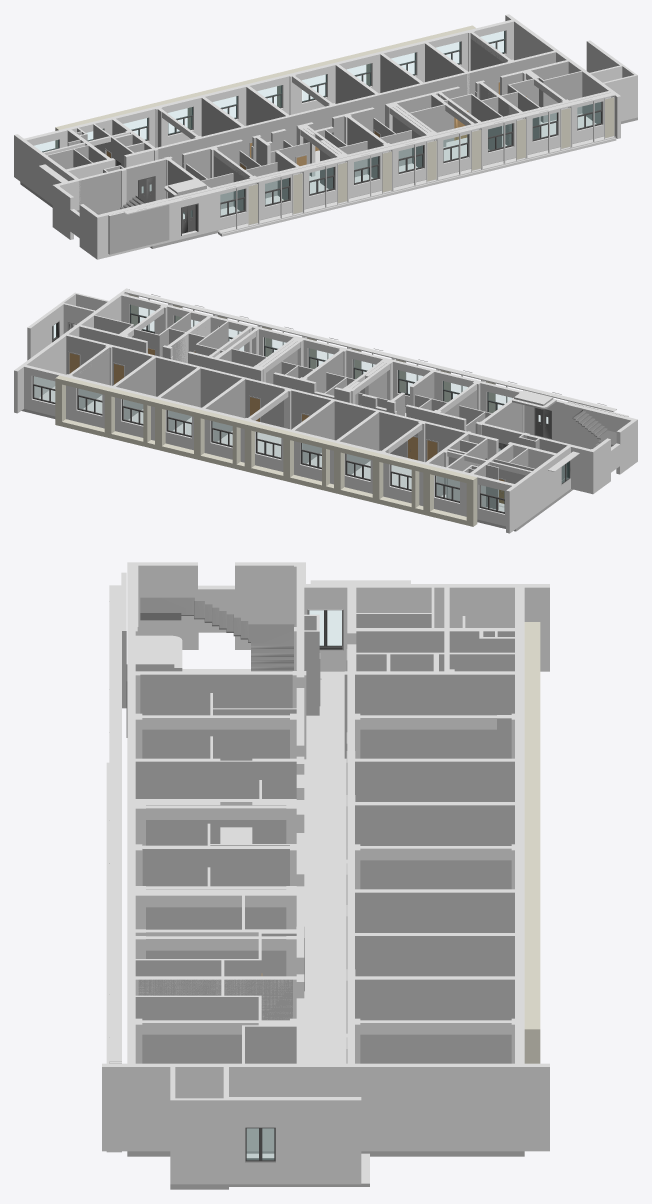
3 views of the same model, one above another, from view 1: azimuth 30°, elevation 25°; view 2: azimuth 150°, elevation 25°; view 3: azimuth 270°, elevation 25° (orthographic). The views are drawn at different scales.
Visible parts, largest first — view 1: Basic_Wall_铝板_30__2255558__1; view 2: Basic_Wall_铝板_30__2255558__1; view 3: Basic_Wall_铝板_30__2255558__1.
Part boxes in pixels (x1,y1,x2,y2): Basic_Wall_铝板_30__2255558__1: (14,14,637,259); Basic_Wall_铝板_30__2255558__1: (14,288,637,533); Basic_Wall_铝板_30__2255558__1: (102,562,549,1189).
Bounding box in the file's own units: 49435 × 4400 × 17380.
